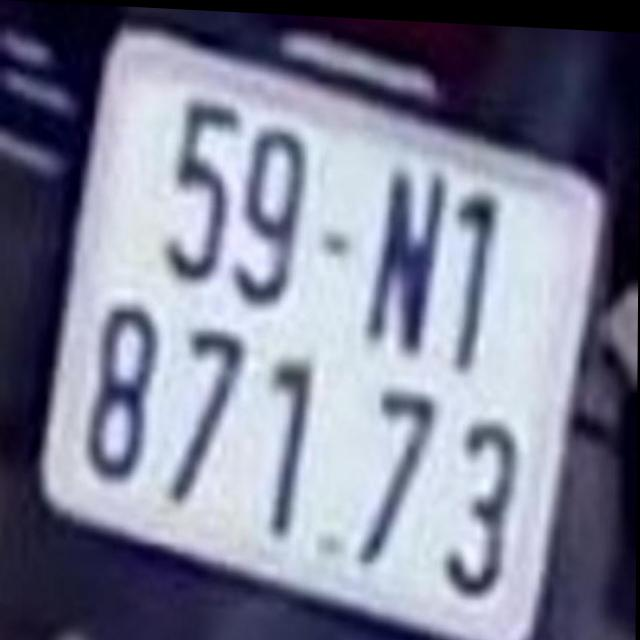1: (265, 351, 311, 536), (453, 184, 498, 369)
3: (440, 407, 511, 600)
5: (163, 88, 234, 282)
7: (351, 381, 440, 580), (168, 317, 248, 511)
8: (90, 294, 153, 478)
9: (239, 114, 305, 313)
N: (363, 150, 447, 357)
